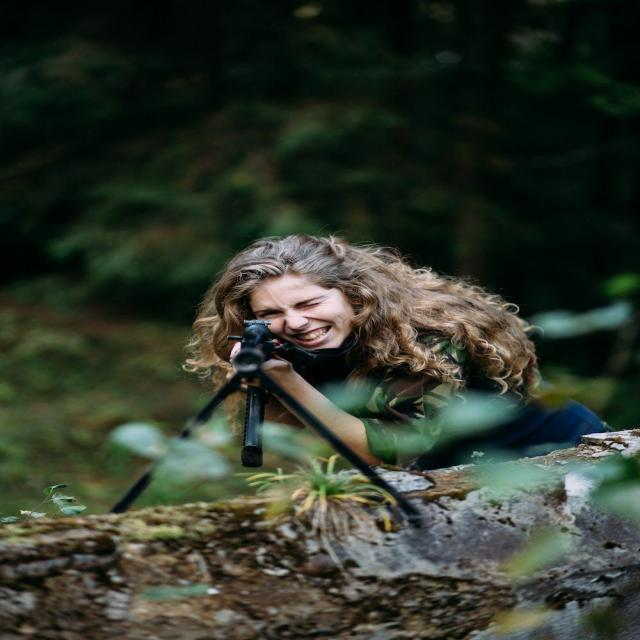weapon: (108, 319, 424, 527)
